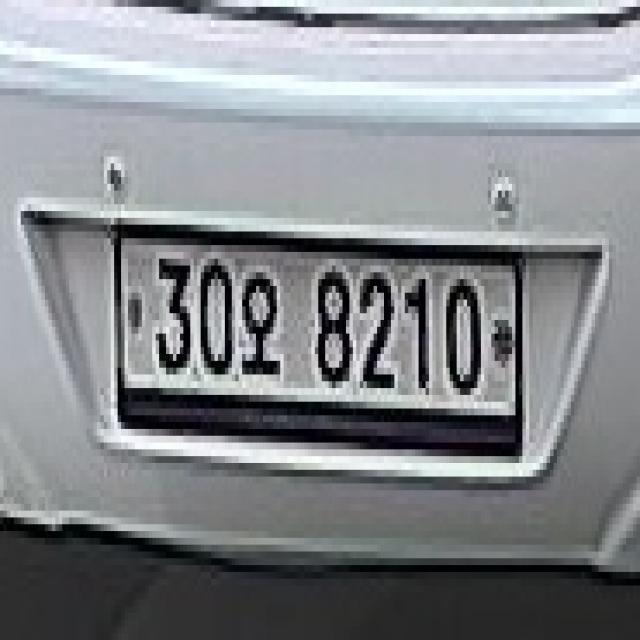0: (194, 259, 235, 381), (443, 279, 484, 395)
1: (402, 272, 432, 395)
2: (353, 272, 398, 402)
3: (156, 245, 193, 375)
8: (315, 265, 353, 395)
license_plate: (118, 211, 522, 443)
o: (239, 266, 280, 388)
